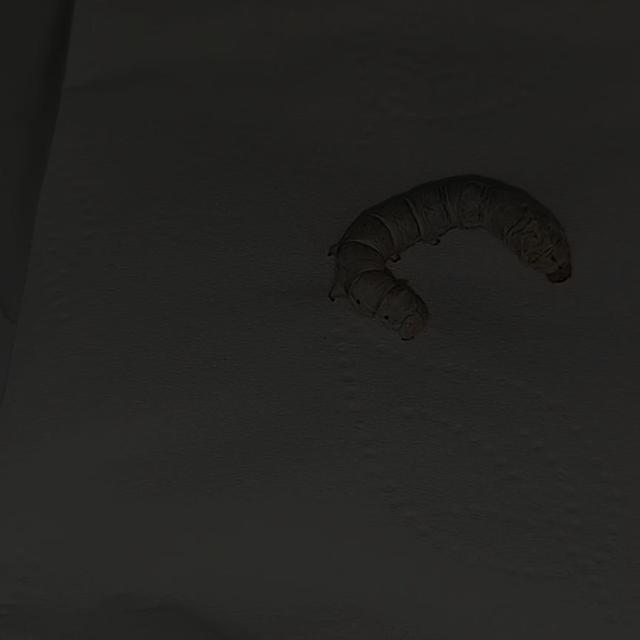Healthy: (311, 134, 598, 396)
